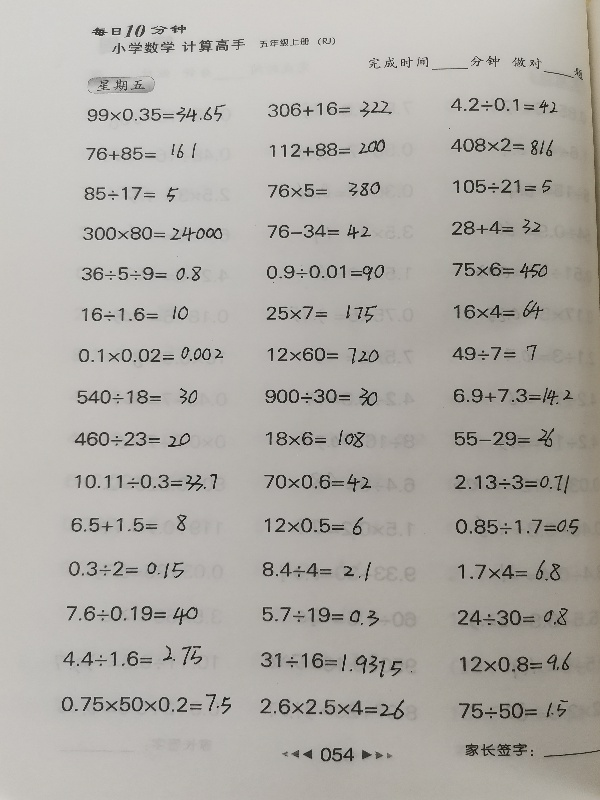equation: (57, 688, 234, 716), (257, 648, 417, 677), (256, 695, 407, 722), (59, 642, 205, 669), (80, 136, 208, 165), (84, 101, 229, 126), (70, 470, 220, 494), (63, 601, 201, 627), (443, 130, 557, 161), (74, 343, 226, 366), (74, 386, 205, 412), (456, 649, 576, 677), (452, 471, 573, 498), (262, 260, 387, 286), (263, 177, 388, 203), (79, 223, 226, 245), (263, 299, 380, 326), (452, 515, 583, 539), (264, 97, 395, 121), (262, 384, 382, 410), (258, 602, 382, 627), (68, 512, 196, 536), (455, 557, 564, 585), (450, 385, 577, 409), (455, 604, 572, 630), (79, 301, 196, 327), (258, 558, 374, 584), (64, 558, 187, 582), (455, 697, 571, 722), (260, 471, 375, 496), (264, 344, 383, 368), (70, 427, 194, 450), (265, 138, 388, 161), (78, 262, 205, 284), (451, 425, 558, 451), (261, 425, 368, 450), (262, 514, 367, 539), (451, 297, 548, 323), (447, 93, 561, 115), (449, 258, 551, 282), (264, 221, 375, 243), (450, 176, 556, 198), (80, 182, 181, 205), (448, 339, 543, 363), (448, 215, 544, 238)
